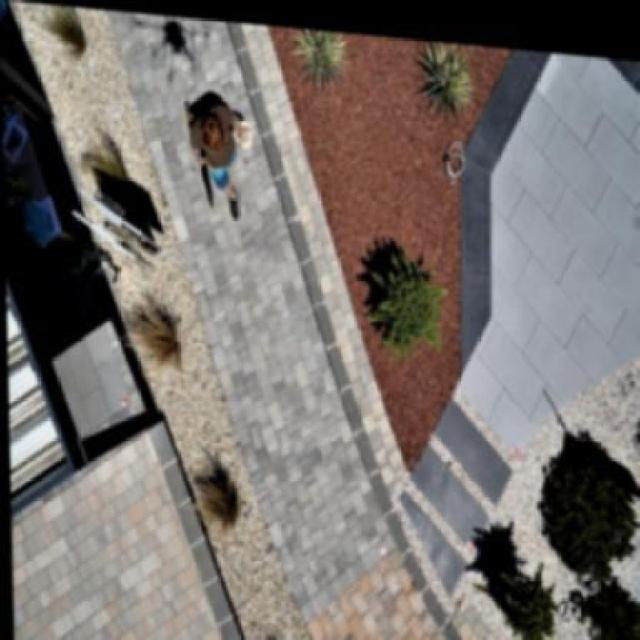Person: (183, 76, 255, 219)
